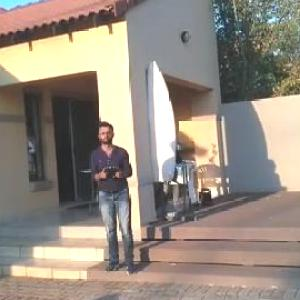follow: (90, 116, 142, 278)
